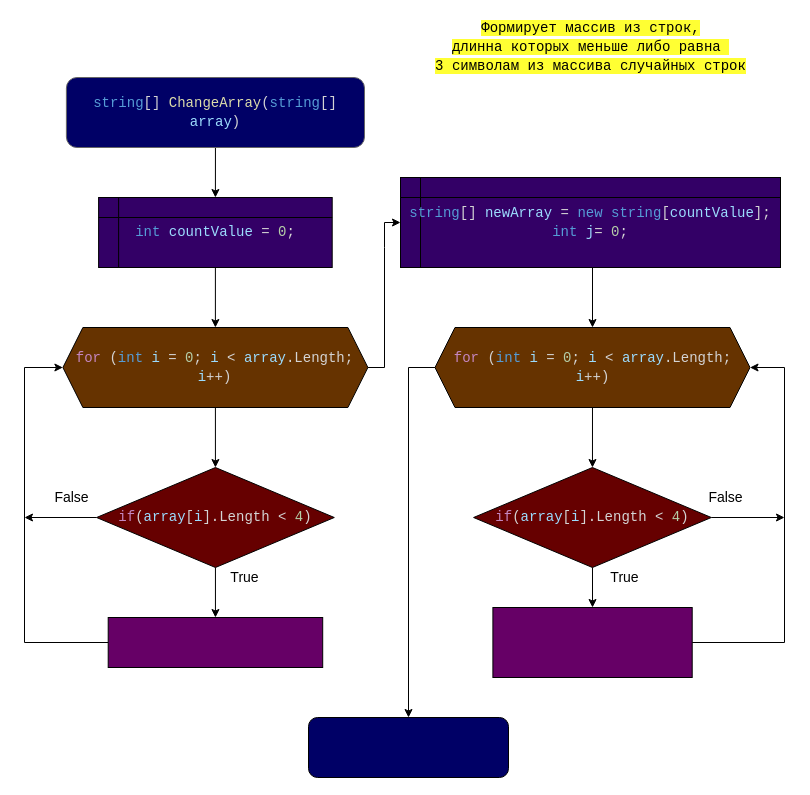
The diagram is 810 pixels wide and 795 high, and some of its shapes have lost their labels. Here are the shapes that lost their labels. From the top down, the centre of each, then its label:
At [215,642]: "countValue ++;".
At [592,642]: "newArray [ j ] = array [ i ] j ++;".
At [408,747]: "return newArray ;".
